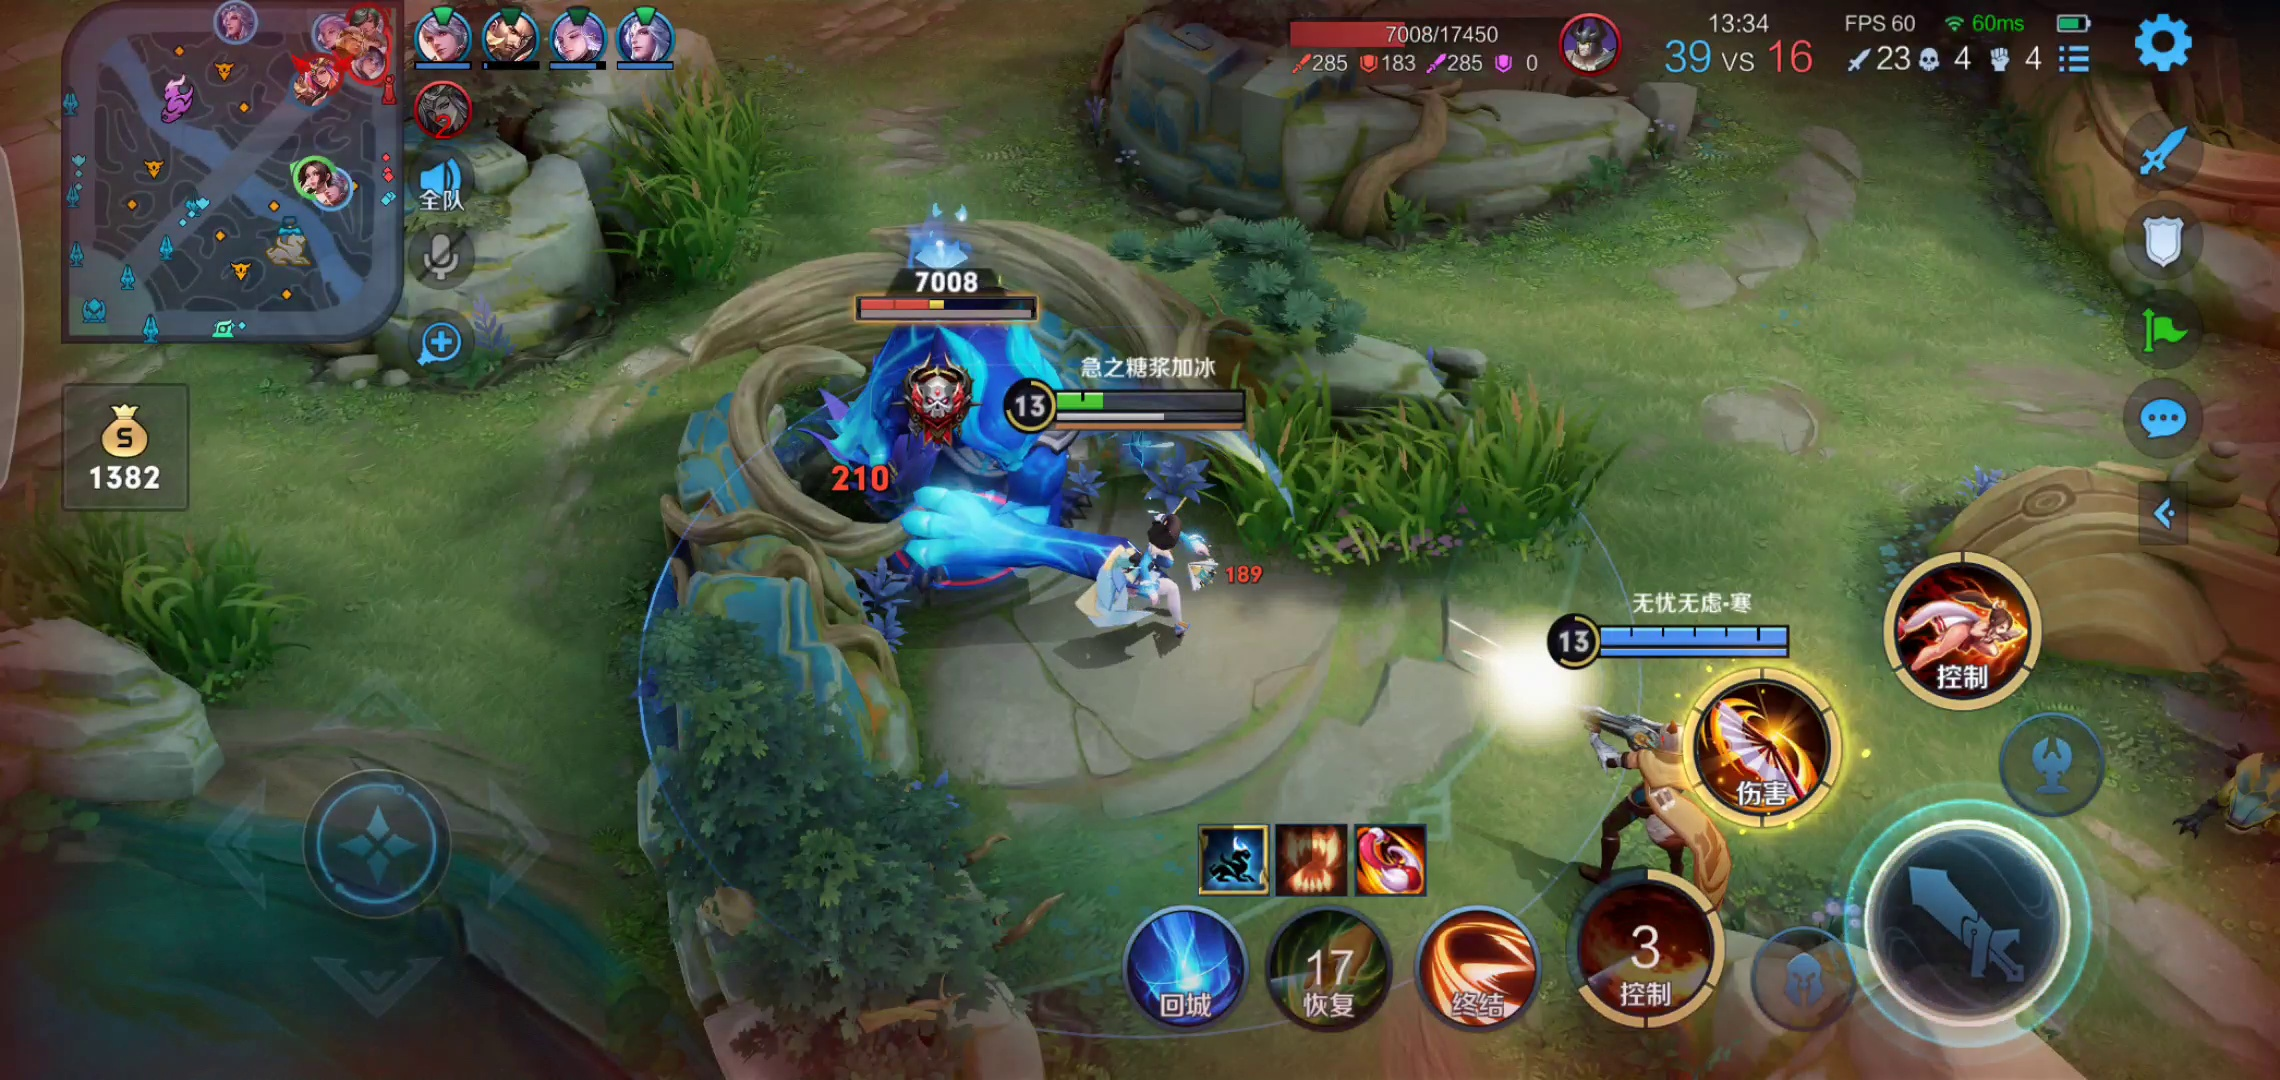buff: (816, 337, 1091, 637)
grass: (1216, 353, 1594, 580), (1, 503, 297, 709), (614, 93, 776, 294)
hero: (1554, 692, 1773, 890), (1080, 501, 1235, 635)
wild_monster: (2139, 714, 2280, 882)
